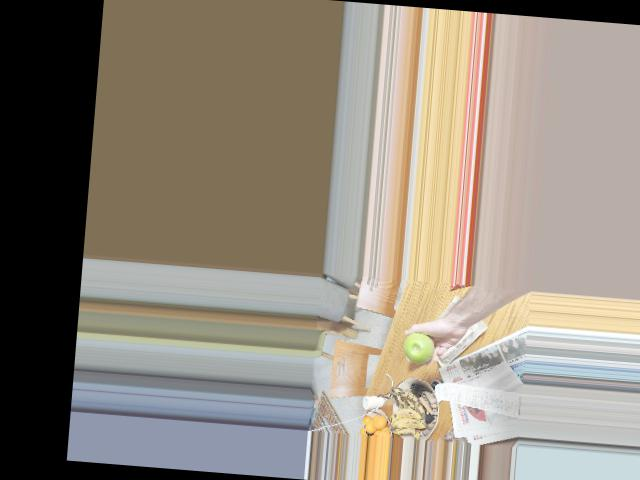apple: (395, 332, 441, 363)
